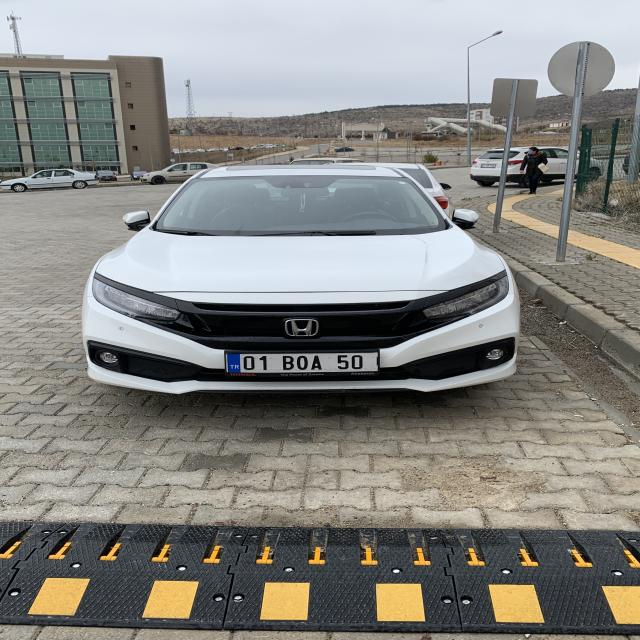license_plate: (225, 352, 379, 373)
